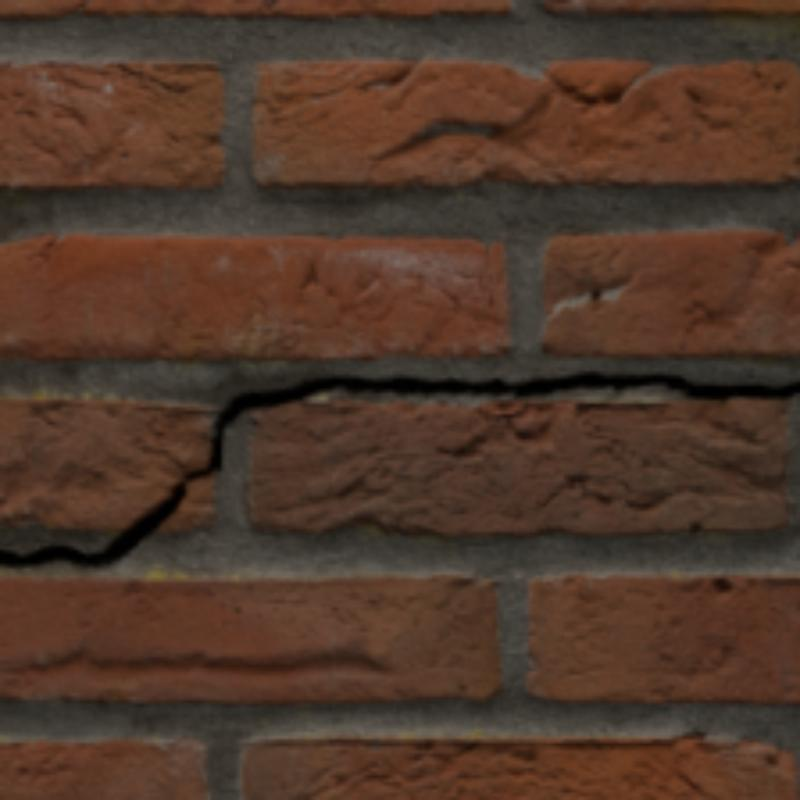pothole: (0, 371, 796, 564)
